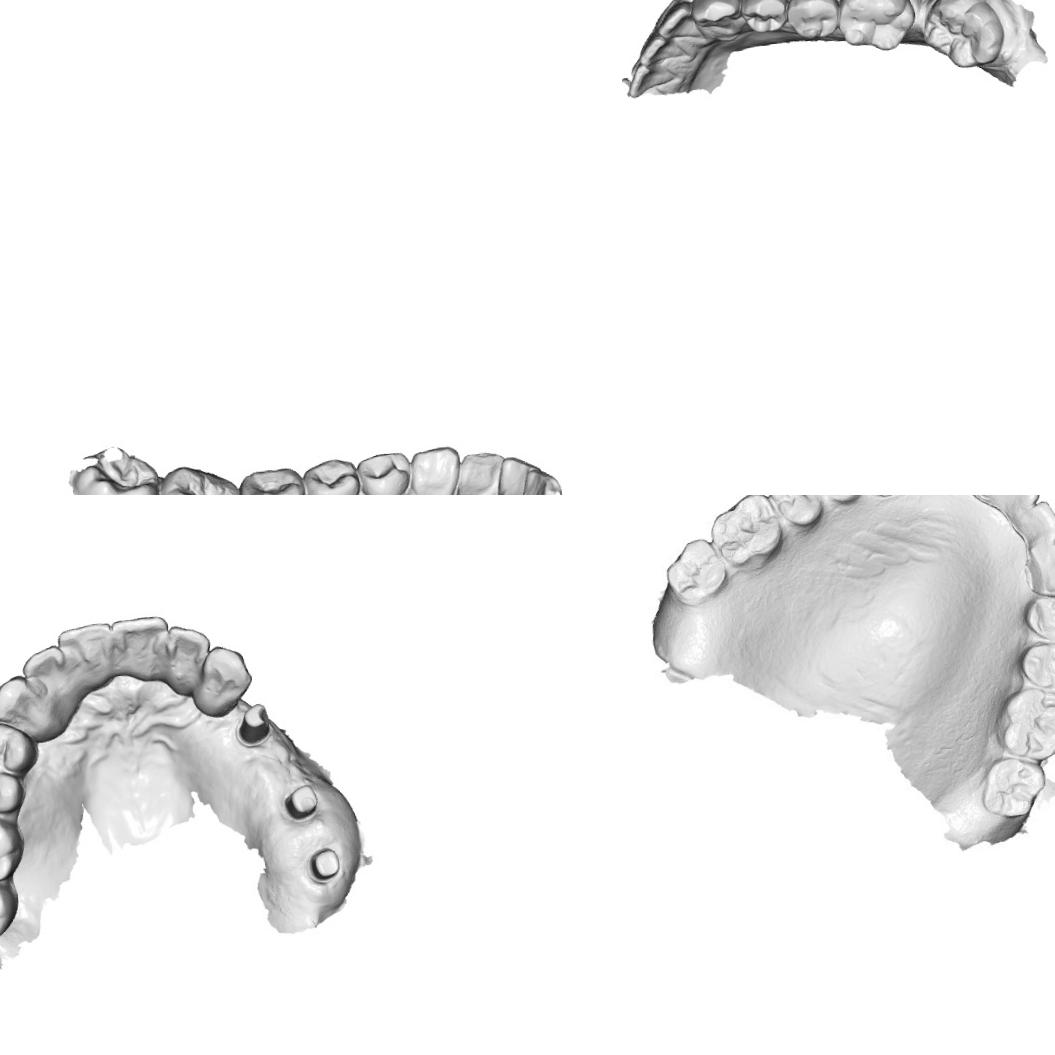abutment: (232, 700, 274, 747), (280, 782, 320, 822), (308, 844, 342, 883)
canine: (190, 642, 256, 718), (407, 443, 461, 495), (686, 0, 745, 45), (0, 672, 44, 729), (1024, 536, 1055, 599)
incisor: (108, 612, 174, 686), (55, 620, 120, 688), (164, 621, 214, 695), (18, 642, 70, 708), (449, 445, 507, 495), (486, 453, 538, 495), (652, 0, 697, 46), (625, 60, 678, 98), (502, 466, 566, 495), (1015, 498, 1055, 541), (636, 32, 680, 68), (985, 495, 1044, 511)
molar: (916, 0, 1007, 72), (974, 748, 1052, 826), (706, 495, 784, 567), (996, 683, 1055, 765), (658, 535, 726, 606), (831, 0, 917, 54), (69, 444, 160, 495), (152, 459, 246, 495), (237, 462, 308, 495), (0, 803, 26, 885), (0, 867, 21, 943)
premolar: (353, 445, 411, 495), (779, 0, 842, 41), (299, 453, 359, 495), (0, 718, 39, 777), (1020, 635, 1055, 697), (1022, 588, 1055, 647), (736, 0, 791, 35), (766, 495, 823, 526), (0, 761, 26, 817)
